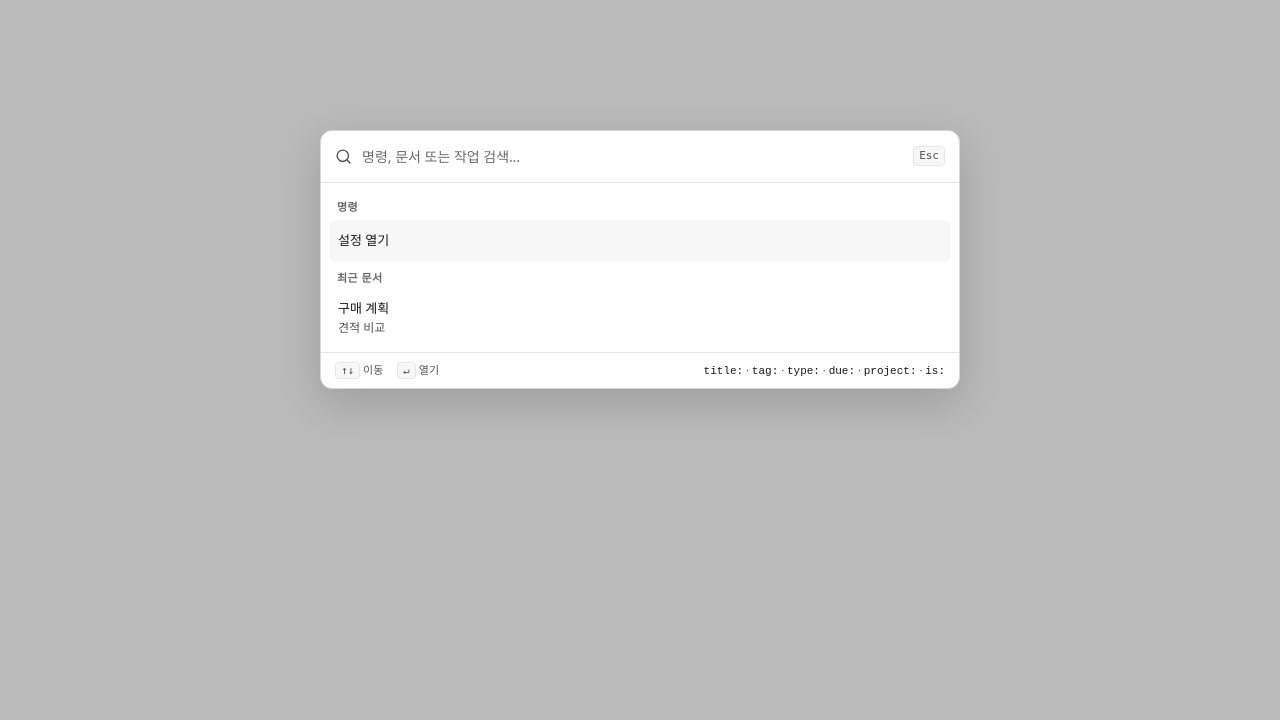
Test case: CommandPalette › loads backend tasks when opened and returns them from the real palette
This screenshot has width=1280, height=720.
Type "계약서" into the dropdown named "명령 또는 검색".
click(633, 156); type("계약서")  # box x1=362 y1=146 x2=903 y2=167
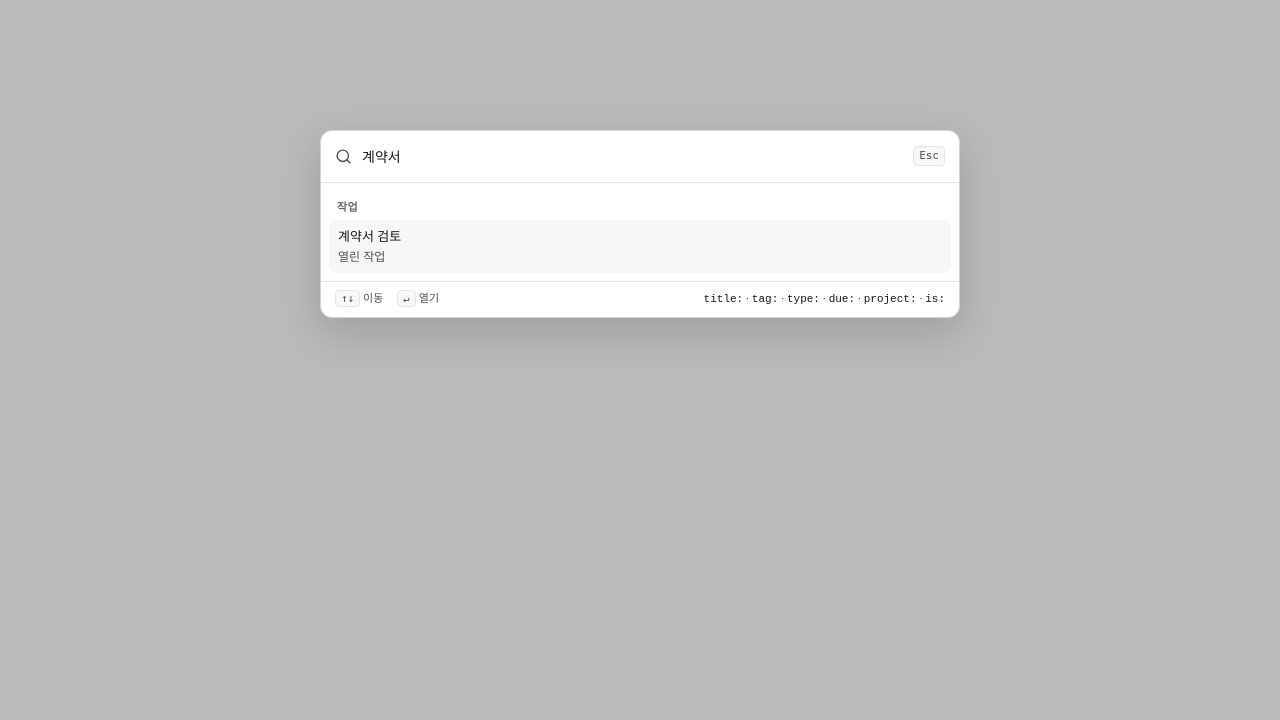
Expected: the text "계약서 검토" is shown, x1=338 y1=227 x2=401 y2=247
